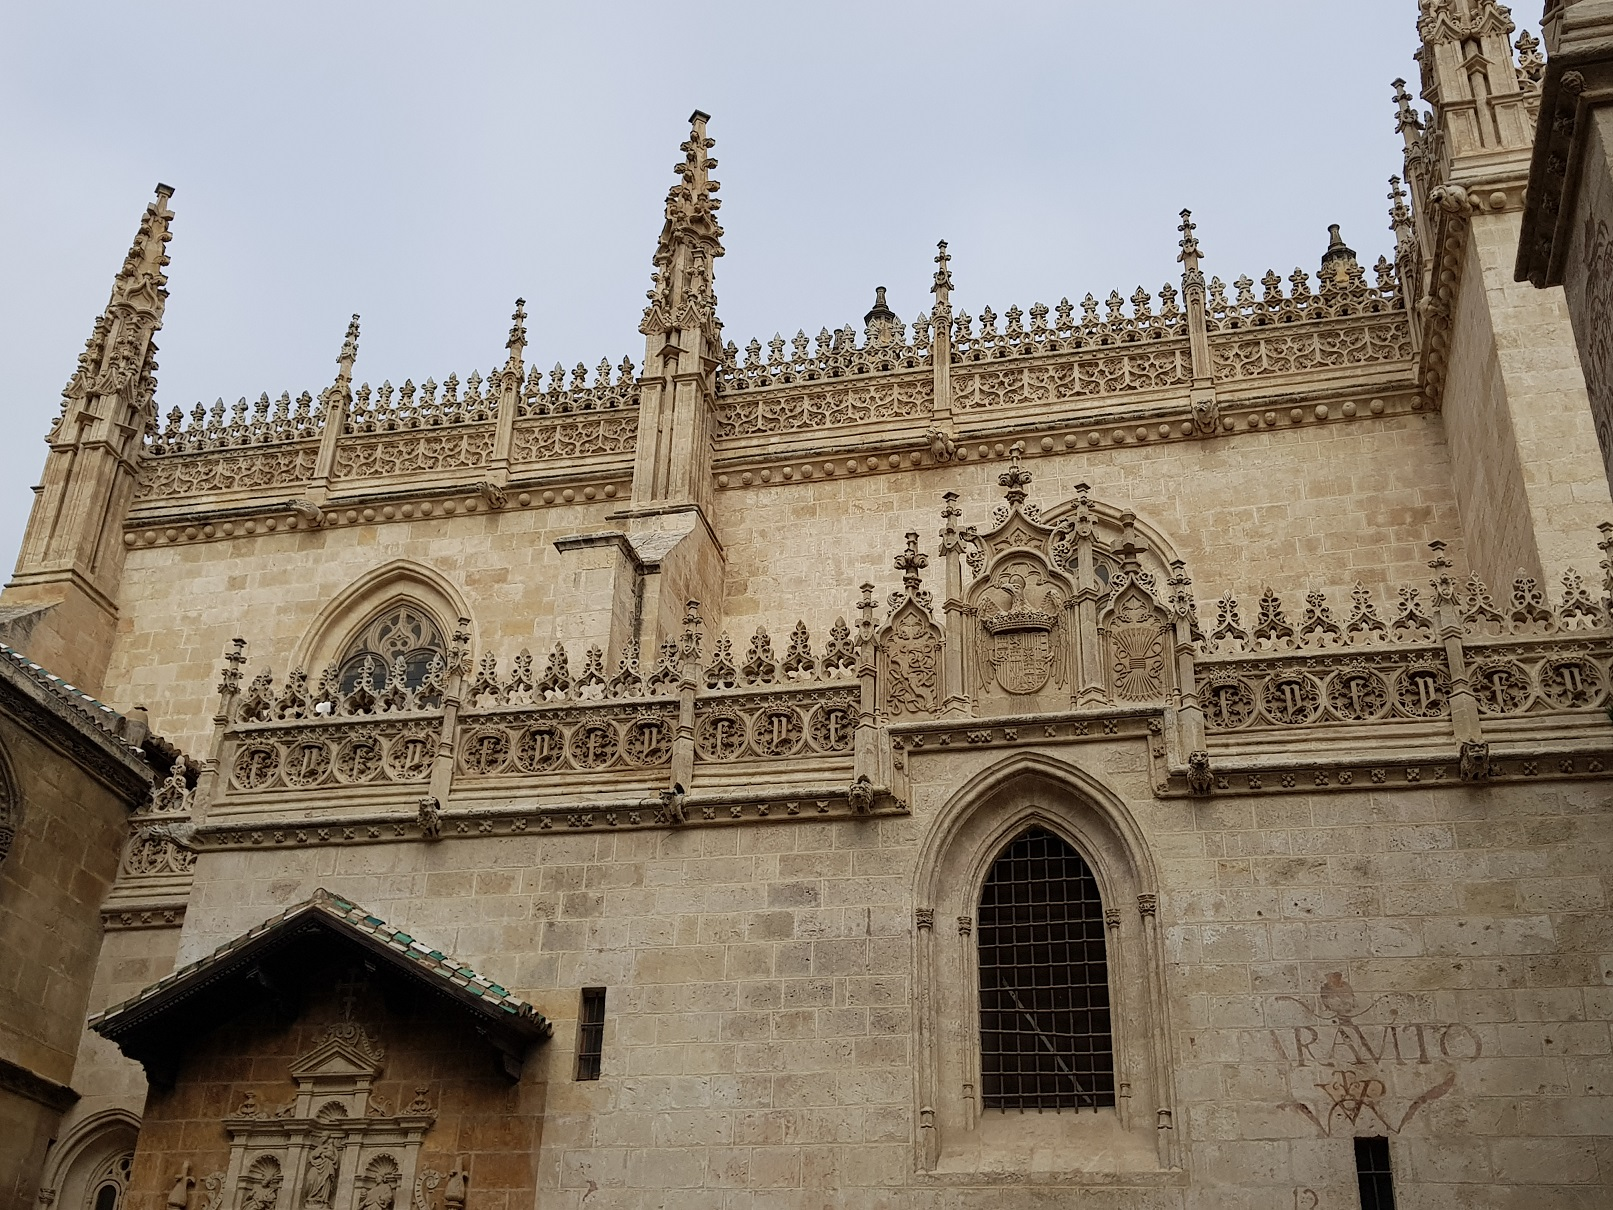arco-apuntado: (905, 741, 1174, 963), (290, 552, 480, 675)
fronton: (289, 1037, 383, 1079)
pinaculo-gotico: (67, 175, 183, 371), (639, 105, 731, 314)
